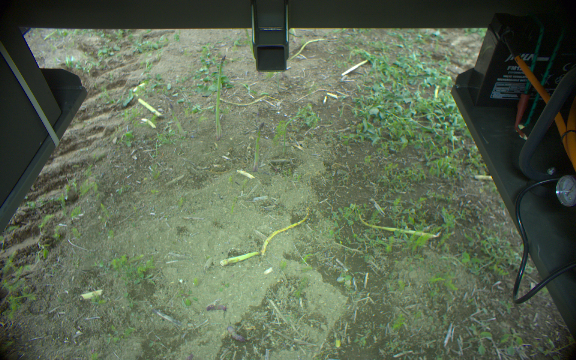aspa: (213, 54, 228, 138), (220, 248, 259, 270), (250, 121, 266, 170)
